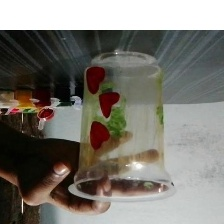glass: (63, 41, 180, 209)
